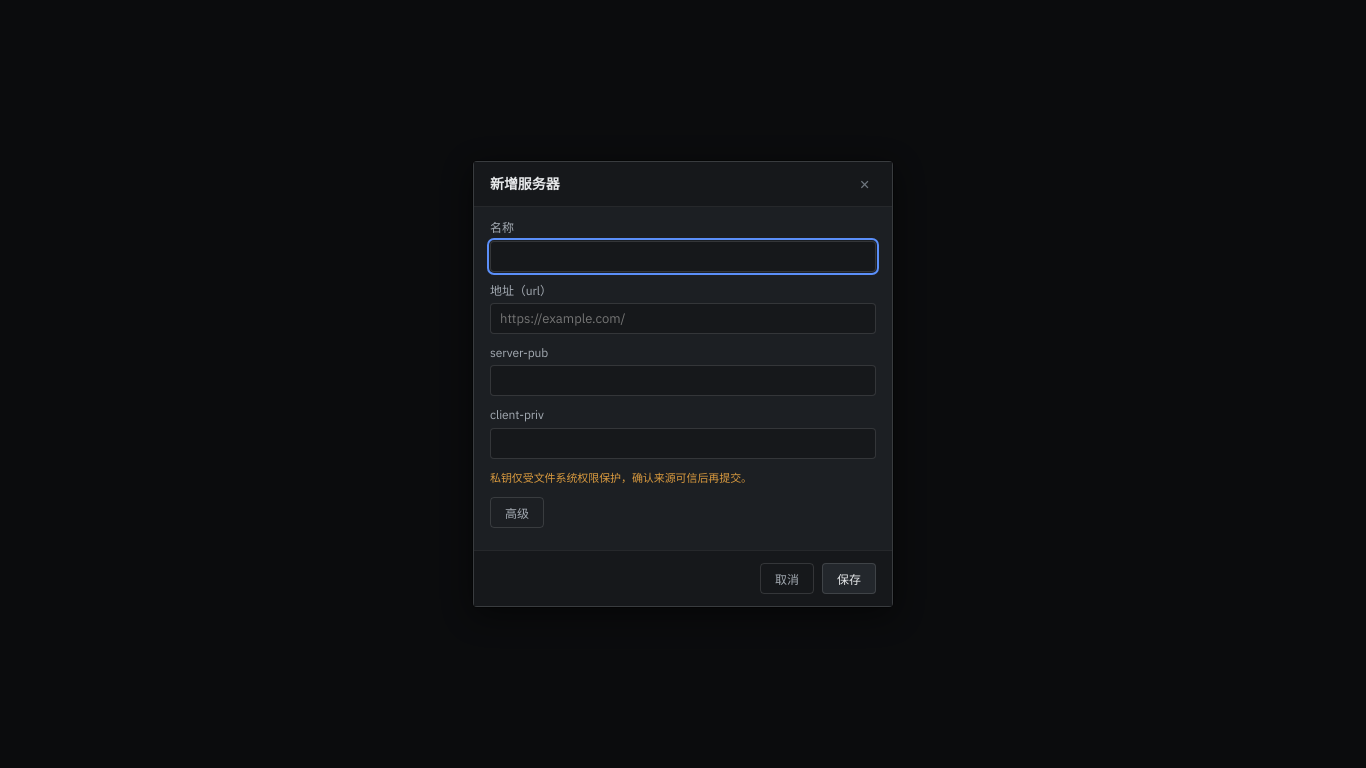
节点新增表单 › 必填字段为空时不提交，本地报错
Click the button "保存" at (849, 578), box [822, 563, 876, 594]
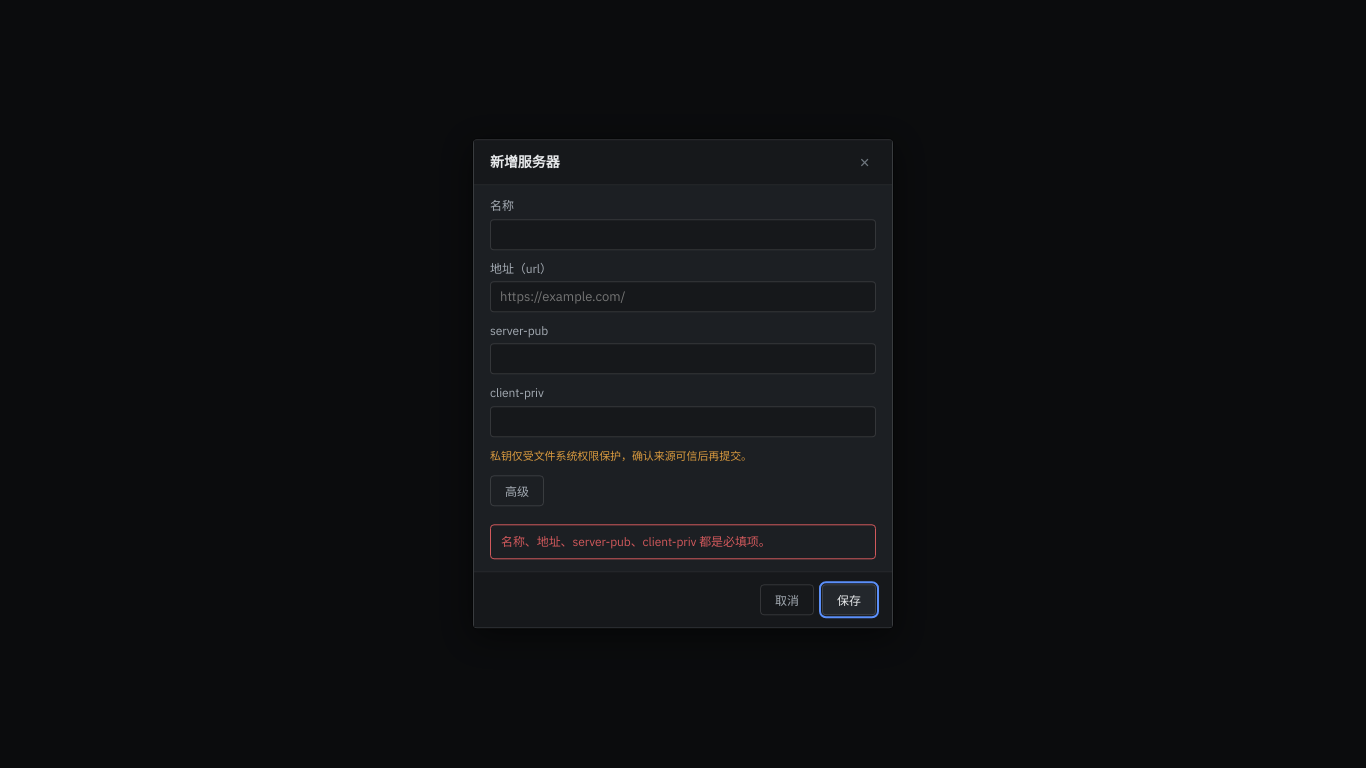
Check: the message "名称、地址、server-pub、client-priv 都是必填项。" is shown, box [490, 524, 876, 560]
